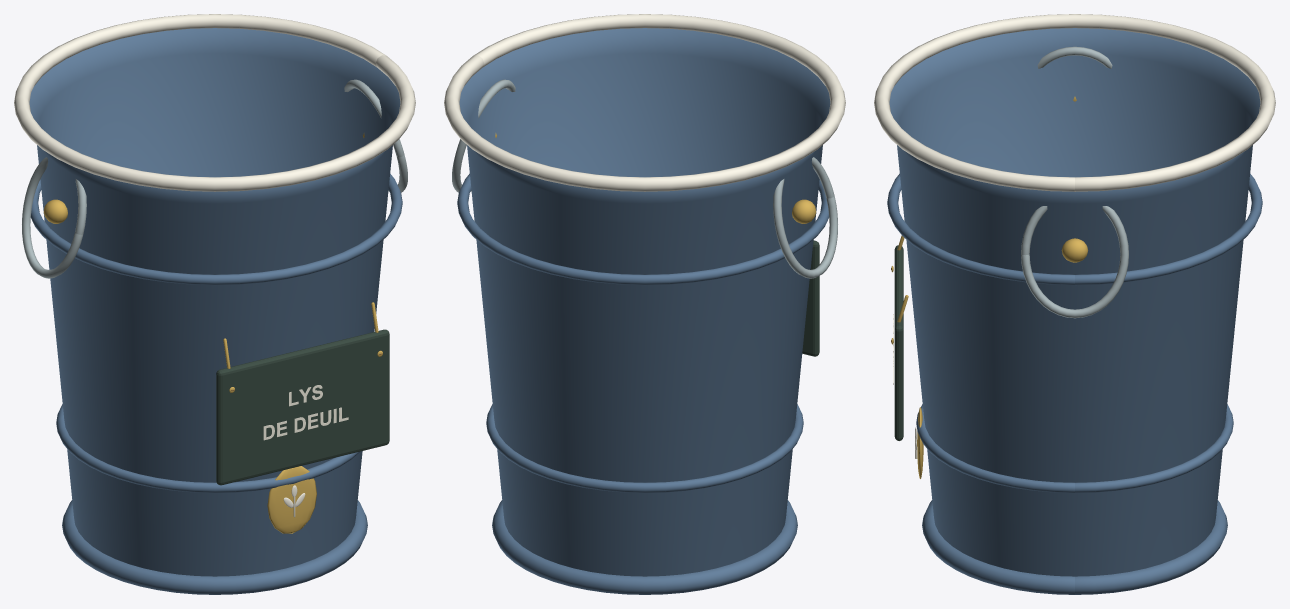
Rendered from bucket_lilies.glb.
3 renders of one model, left to right at view 1: azimuth 30°, elevation 25°; view 2: azimuth 150°, elevation 25°; view 3: azimuth 270°, elevation 25°, orthographic.
Parts seen in each view (by area): view 1: Open_metal_reservoir, Removable_price_plaque, Rolled_cream_lip, Reinforced_base, Pressed_bucket_rib.001, Pressed_bucket_rib, Botanical_enamel_crest, Side_ring_handle, Label_bold_species, Side_ring_handle.001; view 2: Open_metal_reservoir, Rolled_cream_lip, Reinforced_base, Pressed_bucket_rib.001, Pressed_bucket_rib, Side_ring_handle, Removable_price_plaque, Side_ring_handle.001; view 3: Open_metal_reservoir, Rolled_cream_lip, Reinforced_base, Pressed_bucket_rib.001, Pressed_bucket_rib, Side_ring_handle.001, Removable_price_plaque, Side_ring_handle.
Boxes of the visible parts, x1,y1,x2,y2 form: Open_metal_reservoir: (29, 28, 400, 576); Removable_price_plaque: (216, 329, 389, 485); Rolled_cream_lip: (14, 14, 415, 191); Reinforced_base: (62, 500, 367, 594); Pressed_bucket_rib.001: (30, 173, 402, 285); Pressed_bucket_rib: (56, 404, 360, 492); Botanical_enamel_crest: (267, 466, 316, 533); Side_ring_handle: (22, 157, 86, 278); Label_bold_species: (263, 385, 348, 440); Side_ring_handle.001: (344, 79, 407, 192); Open_metal_reservoir: (459, 28, 830, 576); Rolled_cream_lip: (444, 14, 845, 191); Reinforced_base: (492, 500, 797, 594); Pressed_bucket_rib.001: (457, 173, 829, 285); Pressed_bucket_rib: (486, 404, 803, 492); Side_ring_handle: (773, 157, 837, 278); Removable_price_plaque: (802, 240, 819, 356); Side_ring_handle.001: (452, 79, 515, 192); Open_metal_reservoir: (889, 28, 1260, 576); Rolled_cream_lip: (874, 14, 1275, 191); Reinforced_base: (922, 500, 1227, 594); Pressed_bucket_rib.001: (887, 173, 1262, 285); Pressed_bucket_rib: (916, 404, 1233, 492); Side_ring_handle.001: (1021, 206, 1128, 318); Removable_price_plaque: (894, 245, 903, 440); Side_ring_handle: (1037, 46, 1112, 68).
Size of the model in its own units: 0.3718 by 0.447 by 0.364.
